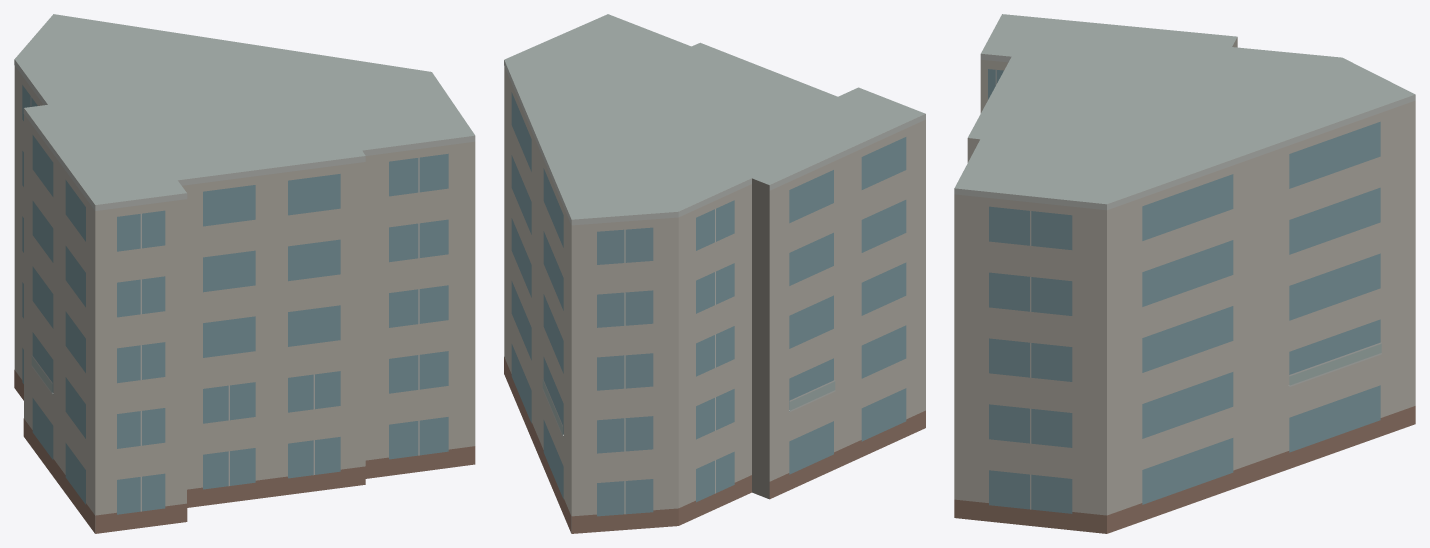
File: survey-upis-32715606.glb
3 views of the same model, side by side, from view 1: azimuth 30°, elevation 25°; view 2: azimuth 150°, elevation 25°; view 3: azimuth 270°, elevation 25° (orthographic). The views are drawn at different scales.
Visible parts, largest first — view 1: survey-upis-32715606.tmp; view 2: survey-upis-32715606.tmp; view 3: survey-upis-32715606.tmp.
Boxes of the visible parts, x1,y1,x2,y2 form: survey-upis-32715606.tmp: (14,14,475,533); survey-upis-32715606.tmp: (504,14,925,533); survey-upis-32715606.tmp: (954,14,1415,533).
Size of the model in its own units: 16.6 by 13.4 by 17.01.
